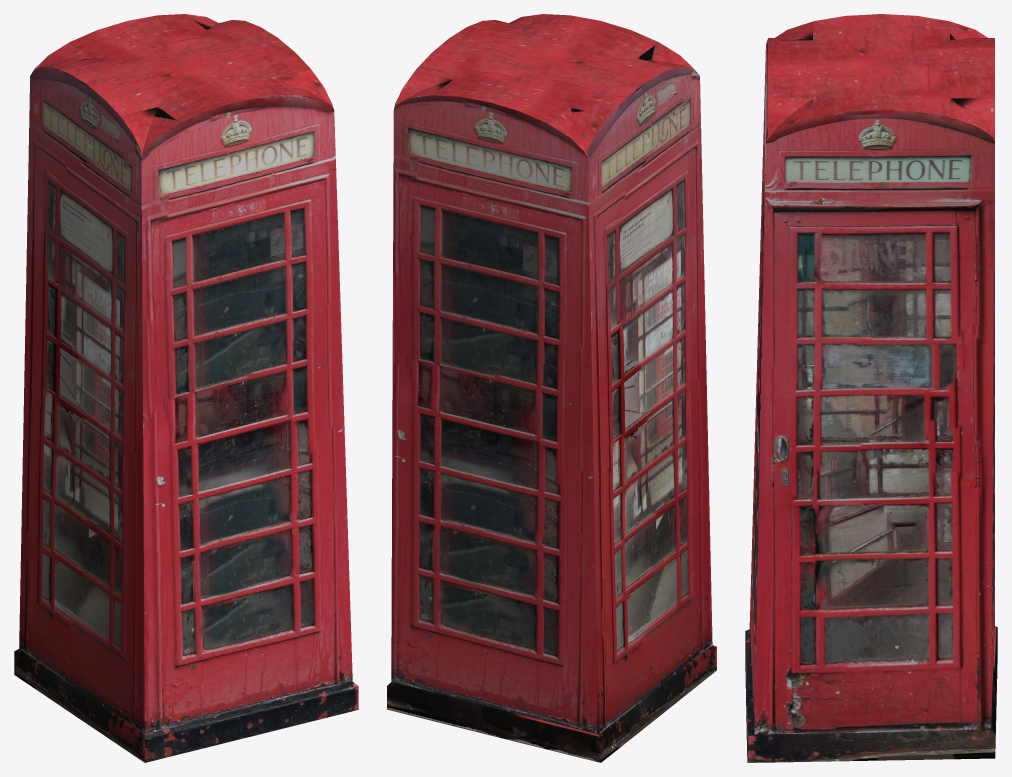
Rendered from phonebox-LP.fbx.
3 views of the same model, side by side, from view 1: azimuth 30°, elevation 25°; view 2: azimuth 150°, elevation 25°; view 3: azimuth 270°, elevation 25° (orthographic). The views are drawn at different scales.
Parts seen in each view (by area): view 1: phonebox-LP; view 2: phonebox-LP; view 3: phonebox-LP.
Boxes of the visible parts, box(x1,y1,x2,y2) form: phonebox-LP: box(14, 14, 358, 762); phonebox-LP: box(387, 14, 716, 762); phonebox-LP: box(745, 14, 997, 762).
Size of the model in its own units: 91.5 by 247 by 87.55.
Materials: 1 (1 with a texture image).
